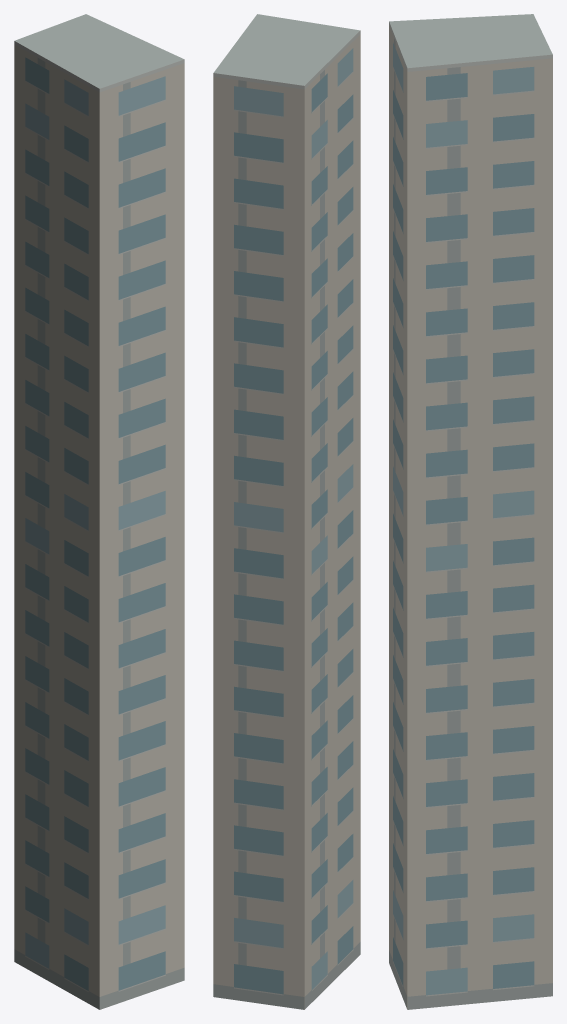
File: survey-upis-32570040.glb
The picture shows the model from 3 angles, left to right: view 1: azimuth 30°, elevation 25°; view 2: azimuth 150°, elevation 25°; view 3: azimuth 270°, elevation 25°; orthographic projection. The views are drawn at different scales.
Parts seen in each view (by area): view 1: survey-upis-32570040.tmp; view 2: survey-upis-32570040.tmp; view 3: survey-upis-32570040.tmp.
Boxes of the visible parts, left/top/right/bottom form: survey-upis-32570040.tmp: left=14, top=14, right=184, bottom=1009; survey-upis-32570040.tmp: left=213, top=14, right=360, bottom=1009; survey-upis-32570040.tmp: left=389, top=14, right=552, bottom=1009.
Size of the model in its own units: 7.55 by 61 by 9.63.
